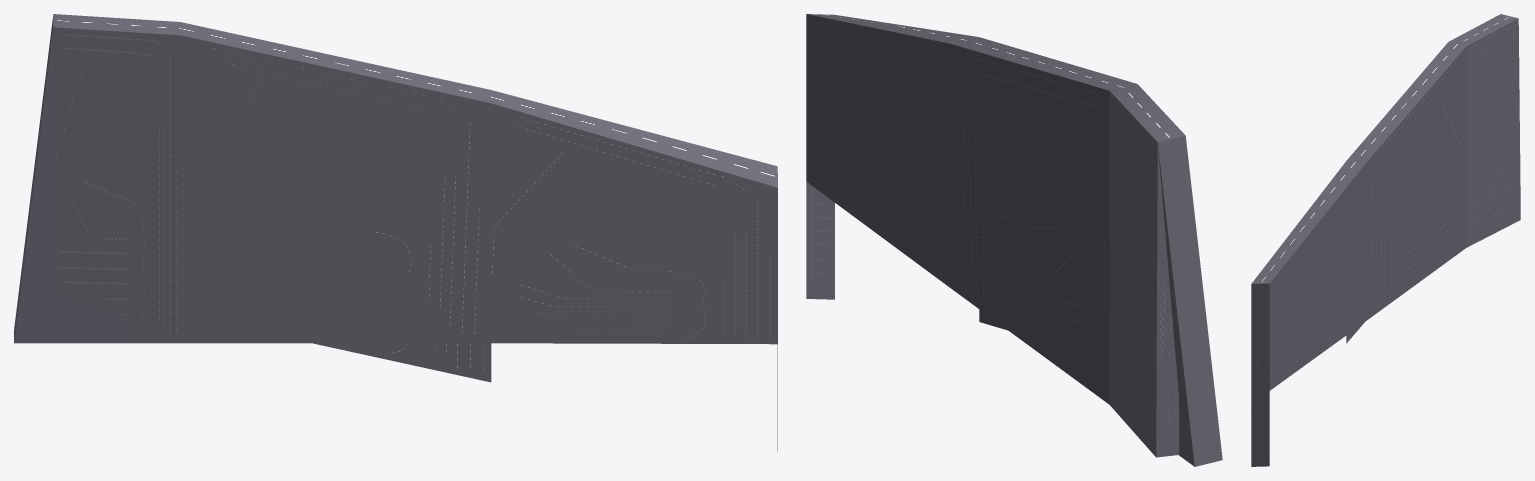
Rendered from road_13.fbx.
3 renders of one model, left to right at view 1: azimuth 30°, elevation 25°; view 2: azimuth 150°, elevation 25°; view 3: azimuth 270°, elevation 25°, orthographic. The views are drawn at different scales.
Parts seen in each view (by area): view 1: road_13; view 2: road_13; view 3: road_13.
Boxes of the visible parts, <box> form: road_13: <box>14,14,777,451</box>; road_13: <box>806,14,1222,466</box>; road_13: <box>1251,14,1520,466</box>.
Size of the model in its own units: 18.44 by 12.95 by 11.21.
Materials: 1 (1 with a texture image).
